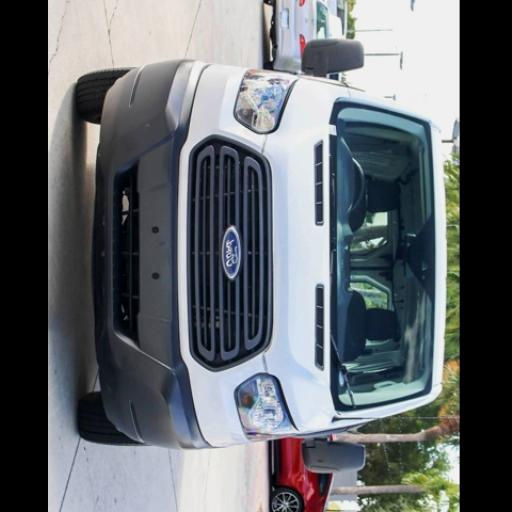car: (327, 74, 342, 81)
sedan: (263, 0, 330, 74), (270, 438, 333, 512)
suv: (323, 0, 348, 33)
van: (62, 40, 446, 472)
